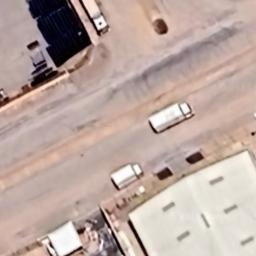truck: (144, 96, 199, 134), (103, 160, 148, 191), (84, 0, 110, 39)
